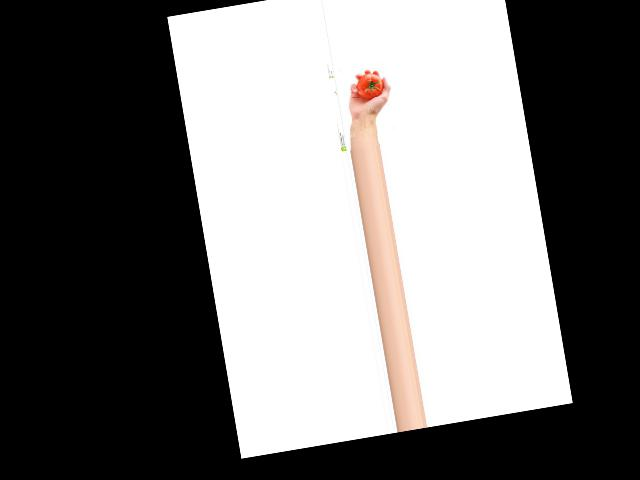tomato: (354, 71, 384, 100)
